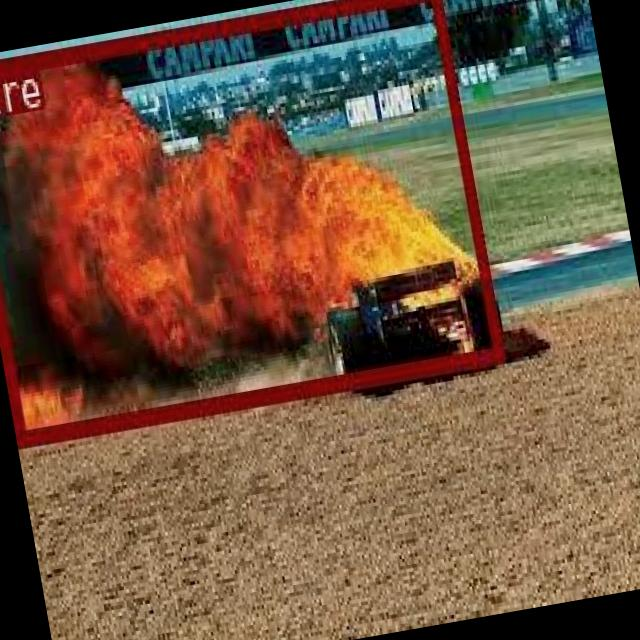fire: (0, 0, 500, 443)
